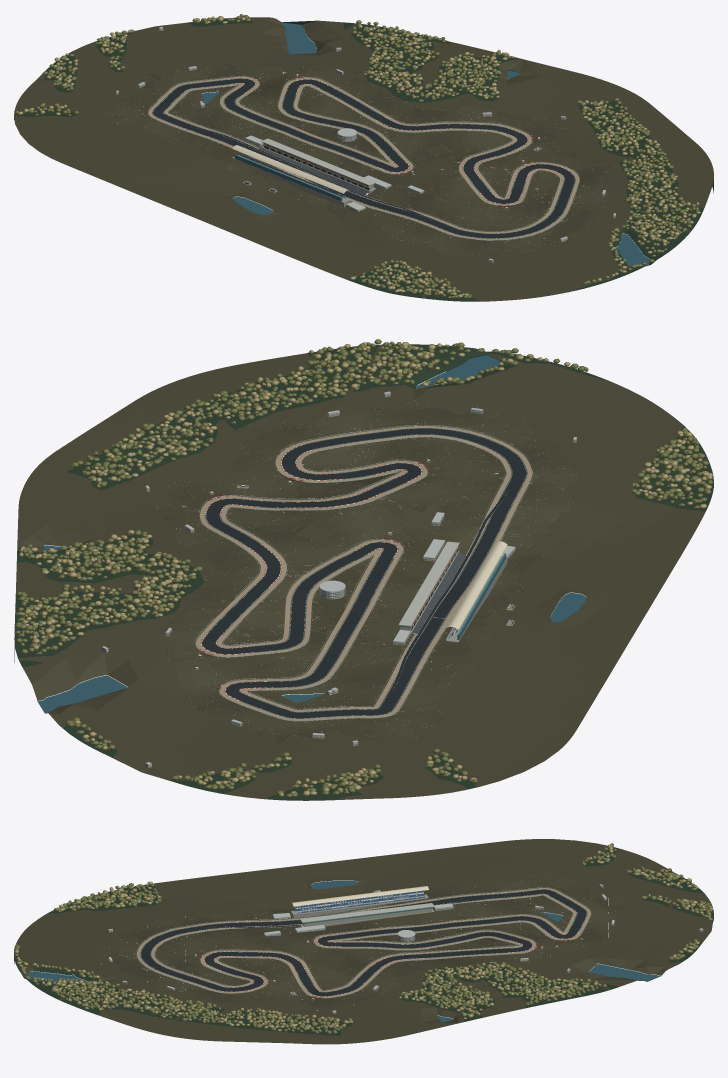
The model's file is Portimao.glb.
3 views of the same model, one above another, from view 1: azimuth 30°, elevation 25°; view 2: azimuth 150°, elevation 25°; view 3: azimuth 270°, elevation 25° (orthographic). The views are drawn at different scales.
Parts seen in each view (by area): view 1: terrain/ground, scenery/leaves, terrain-ground-finish-1, terrain-woodland/forestFloor, terrain-ground-finish-2, terrain-ground-finish-3, road/asphalt, runoff/gravel, terrain-ground-finish-0, terrain-ground-finish-4, scenery/leavesLight, shoulder/runoff (+9 smaller); view 2: terrain/ground, scenery/leaves, terrain-ground-finish-1, terrain-woodland/forestFloor, terrain-ground-finish-3, terrain-ground-finish-2, road/asphalt, terrain-ground-finish-0, terrain-ground-finish-4, runoff/gravel, scenery/leavesLight, shoulder/runoff (+7 smaller); view 3: terrain/ground, scenery/leaves, terrain-ground-finish-1, terrain-woodland/forestFloor, road/asphalt, terrain-ground-finish-3, terrain-ground-finish-2, runoff/gravel, terrain-ground-finish-0, terrain-ground-finish-4, scenery/leavesLight, barriers/steel (+10 smaller).
Part boxes in pixels (x1,y1,x2,y2): terrain/ground: (14,17,713,301); scenery/leaves: (15,14,699,298); terrain-ground-finish-1: (115,63,616,256); terrain-woodland/forestFloor: (14,17,704,301); terrain-ground-finish-2: (112,65,619,254); terrain-ground-finish-3: (117,66,615,253); road/asphalt: (153,78,574,238); runoff/gravel: (148,76,579,240); terrain-ground-finish-0: (130,63,610,250); terrain-ground-finish-4: (105,66,602,251); scenery/leavesLight: (18,16,700,297); shoulder/runoff: (152,78,575,238); terrain/ground: (15,344,713,800); scenery/leaves: (14,339,713,797); terrain-ground-finish-1: (156,404,567,740); terrain-woodland/forestFloor: (14,344,713,800); terrain-ground-finish-3: (154,400,575,737); terrain-ground-finish-2: (151,402,574,742); road/asphalt: (201,428,526,718); terrain-ground-finish-0: (161,407,552,745); terrain-ground-finish-4: (166,414,578,738); runoff/gravel: (195,426,532,720); scenery/leavesLight: (19,342,713,796); shoulder/runoff: (200,428,527,718); terrain/ground: (17,839,712,1044); scenery/leaves: (14,843,712,1033); terrain-ground-finish-1: (100,875,622,1009); terrain-woodland/forestFloor: (14,847,713,1035); road/asphalt: (141,889,586,996); terrain-ground-finish-3: (101,875,618,1010); terrain-ground-finish-2: (101,875,626,1010); runoff/gravel: (137,888,590,997); terrain-ground-finish-0: (112,889,626,1006); terrain-ground-finish-4: (124,875,617,997); scenery/leavesLight: (14,844,712,1031); barriers/steel: (136,887,591,998).
Size of the model in its own units: 1379 by 72.76 by 1859.
